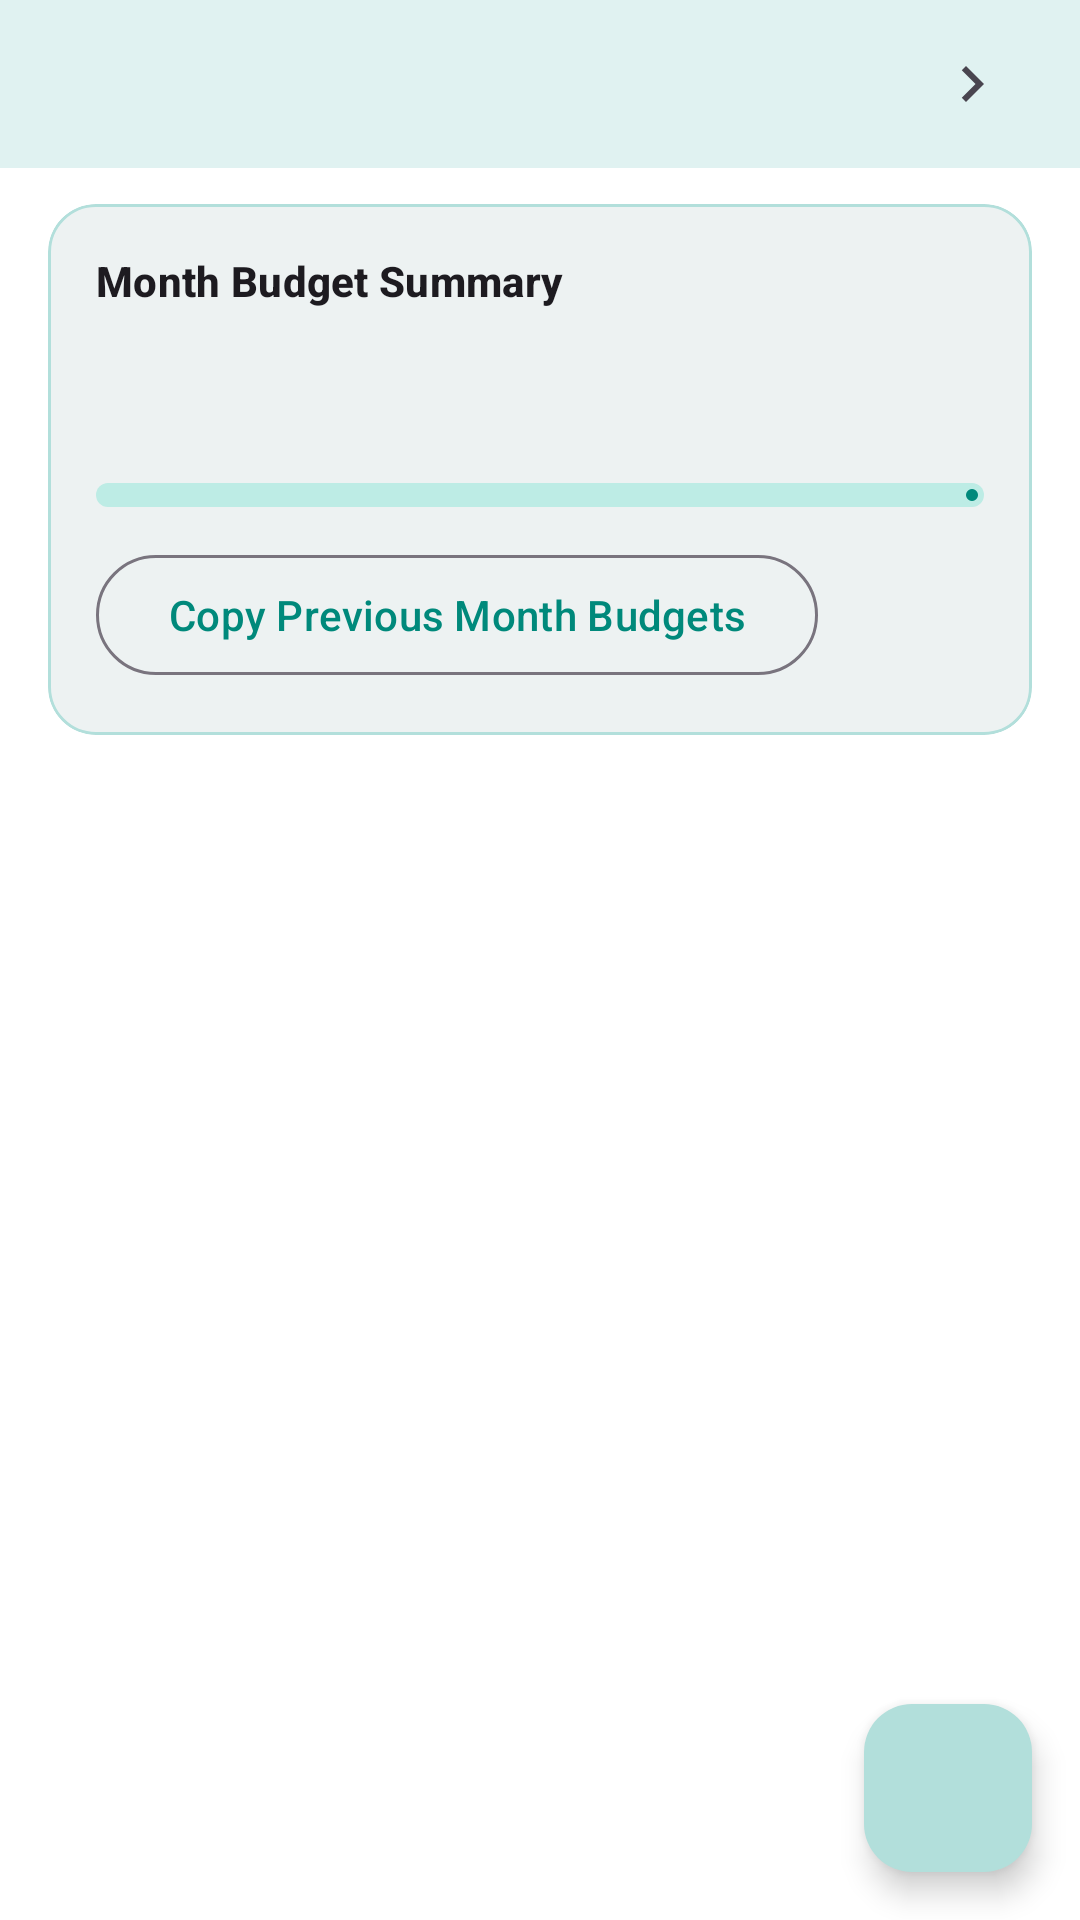

Screen size 1080px×1920px. Icon name, then its center in pixels as [x,y]:
Next month: [973,84]
